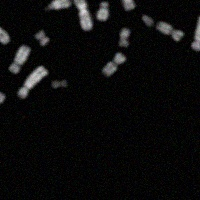chromosome: (17, 65, 48, 98), (101, 52, 126, 78), (9, 44, 31, 73), (156, 20, 184, 41), (73, 0, 92, 30), (0, 7, 9, 44), (44, 0, 71, 11), (192, 15, 200, 50), (95, 1, 108, 20), (117, 28, 130, 47), (35, 30, 49, 47), (141, 15, 154, 27), (0, 92, 5, 123), (121, 0, 136, 10), (52, 79, 68, 88), (194, 0, 200, 9)
